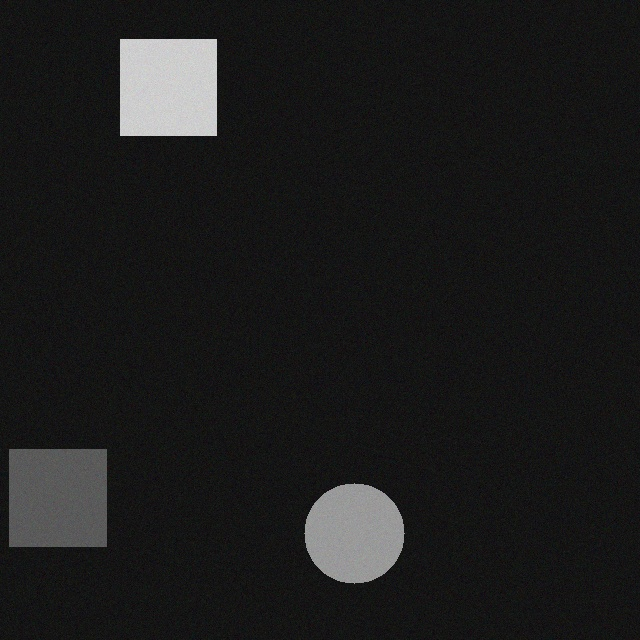circle: (310, 498, 410, 598)
square: (15, 464, 112, 561), (126, 54, 222, 150)
